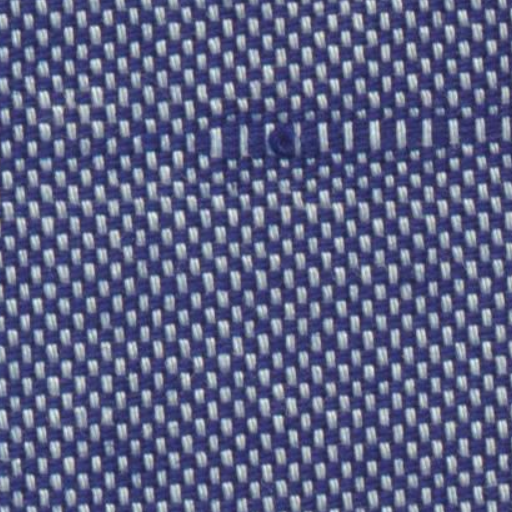DaiSha: (178, 104, 492, 171)
